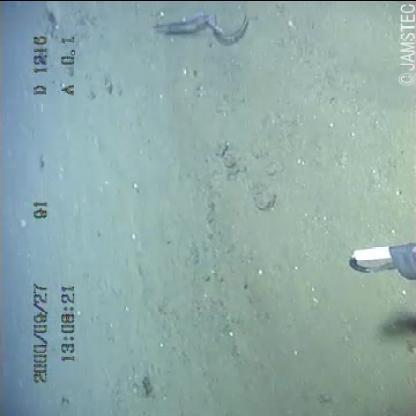Bio: (140, 6, 256, 48)
Rov: (340, 233, 415, 290)
